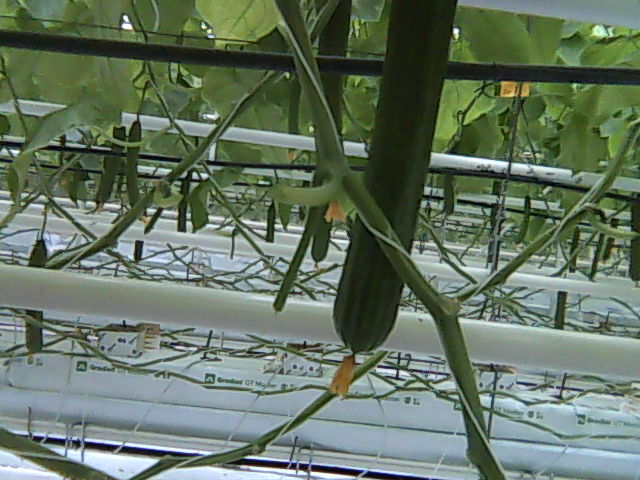concombre: (326, 1, 461, 396)
